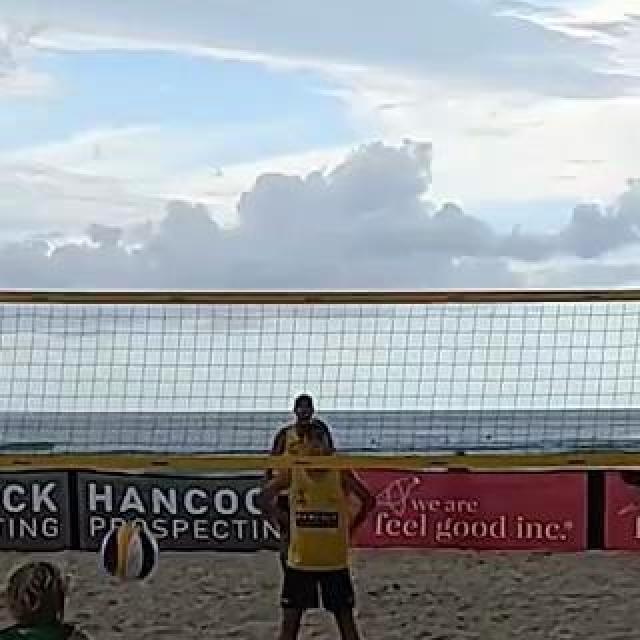volleyball: (105, 526, 155, 582)
